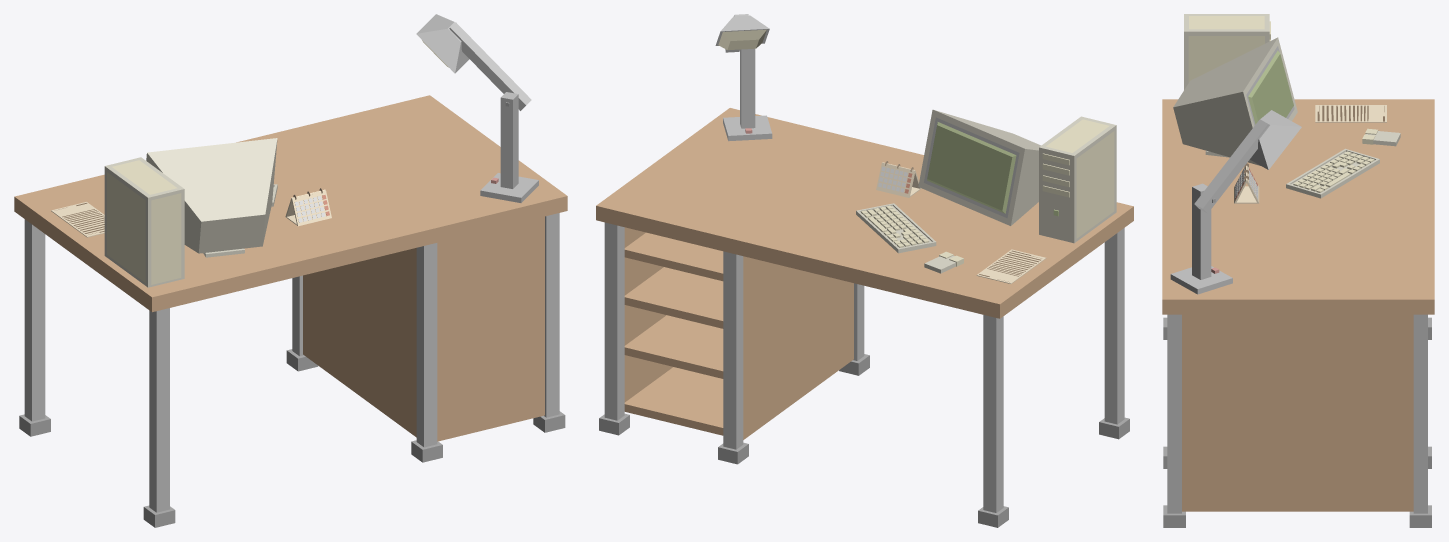
File: workstation.fbx
The picture shows the model from 3 angles, left to right: view 1: azimuth 30°, elevation 25°; view 2: azimuth 150°, elevation 25°; view 3: azimuth 270°, elevation 25°; orthographic projection. The views are drawn at different scales.
Visible parts, largest first — view 1: Cube_1; view 2: Cube_1; view 3: Cube_1.
Boxes of the visible parts, left/top/right/bottom form: Cube_1: left=14, top=14, right=567, bottom=527; Cube_1: left=596, top=14, right=1133, bottom=527; Cube_1: left=1162, top=14, right=1434, bottom=527.
Bounding box in the file's own units: 79.97 × 70.04 × 45.9.
